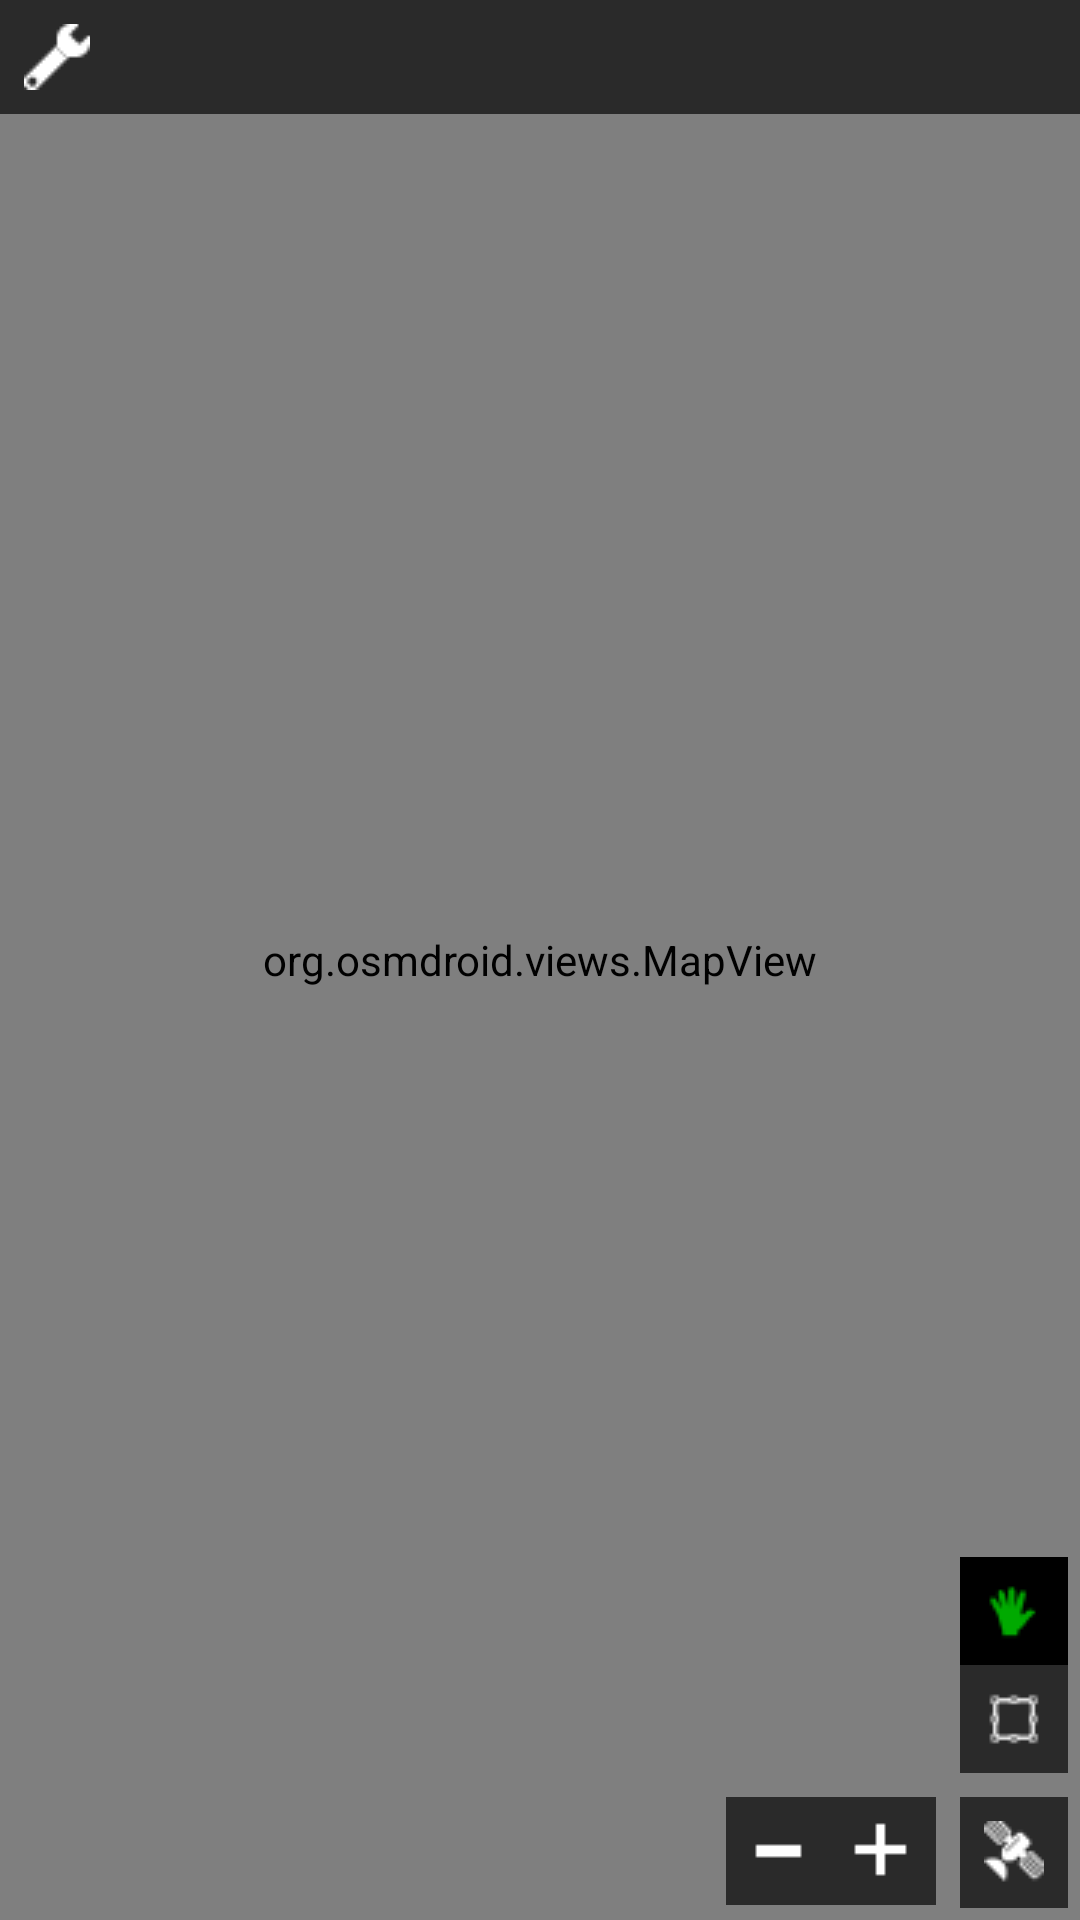

Where icons sit on this 1080px×1920px app screen, as (x1=x1, y1=y1, x2=x2, y2=y2):
box: (x1=960, y1=1665, x2=1068, y2=1773)
hand: (x1=960, y1=1557, x2=1068, y2=1665)
minus: (x1=755, y1=1844, x2=802, y2=1858)
plus: (x1=854, y1=1823, x2=907, y2=1876)
wrench: (x1=24, y1=24, x2=90, y2=90)
